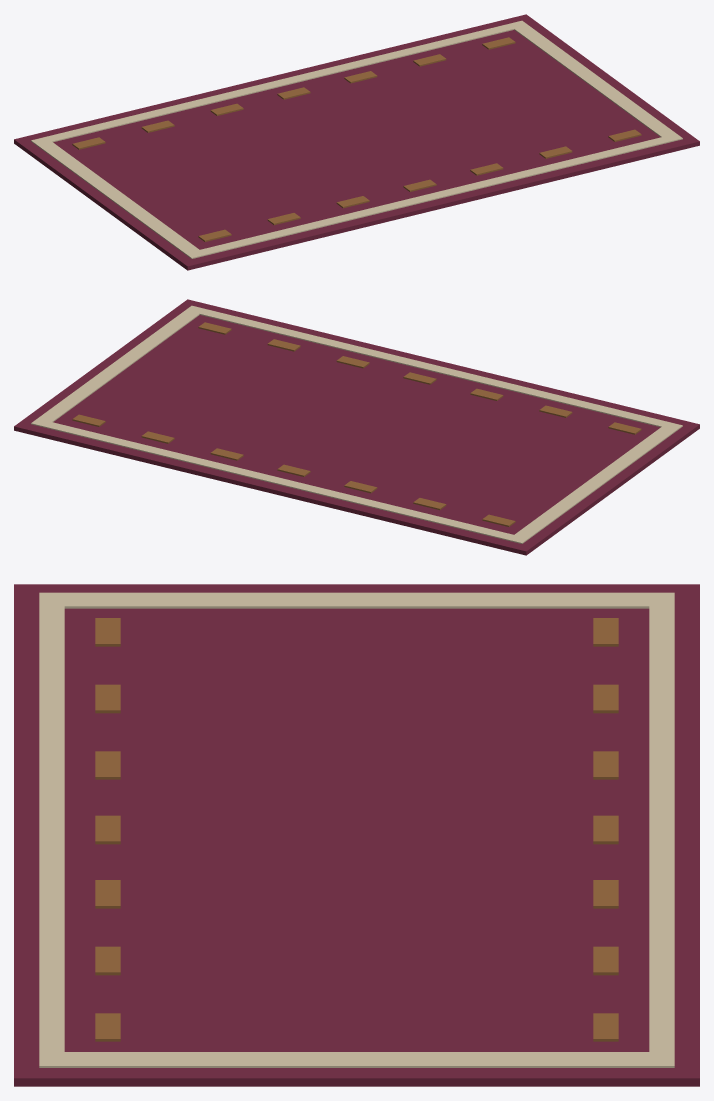
File: woven_workmat.glb
3 views of the same model, one above another, from view 1: azimuth 30°, elevation 25°; view 2: azimuth 150°, elevation 25°; view 3: azimuth 270°, elevation 25° (orthographic). The views are drawn at different scales.
Parts seen in each view (by area): view 1: woven_workmat; view 2: woven_workmat; view 3: woven_workmat.
Boxes of the visible parts, x1,y1,x2,y2 form: woven_workmat: [14, 14, 699, 270]; woven_workmat: [14, 299, 699, 555]; woven_workmat: [14, 584, 699, 1086].
Bounding box in the file's own units: 2.3 × 0.024 × 1.35.
